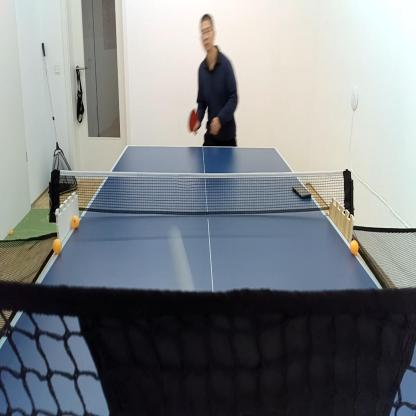Ball: (170, 224, 192, 286), (54, 238, 62, 254), (350, 240, 359, 253), (72, 214, 79, 227), (10, 229, 14, 236)
